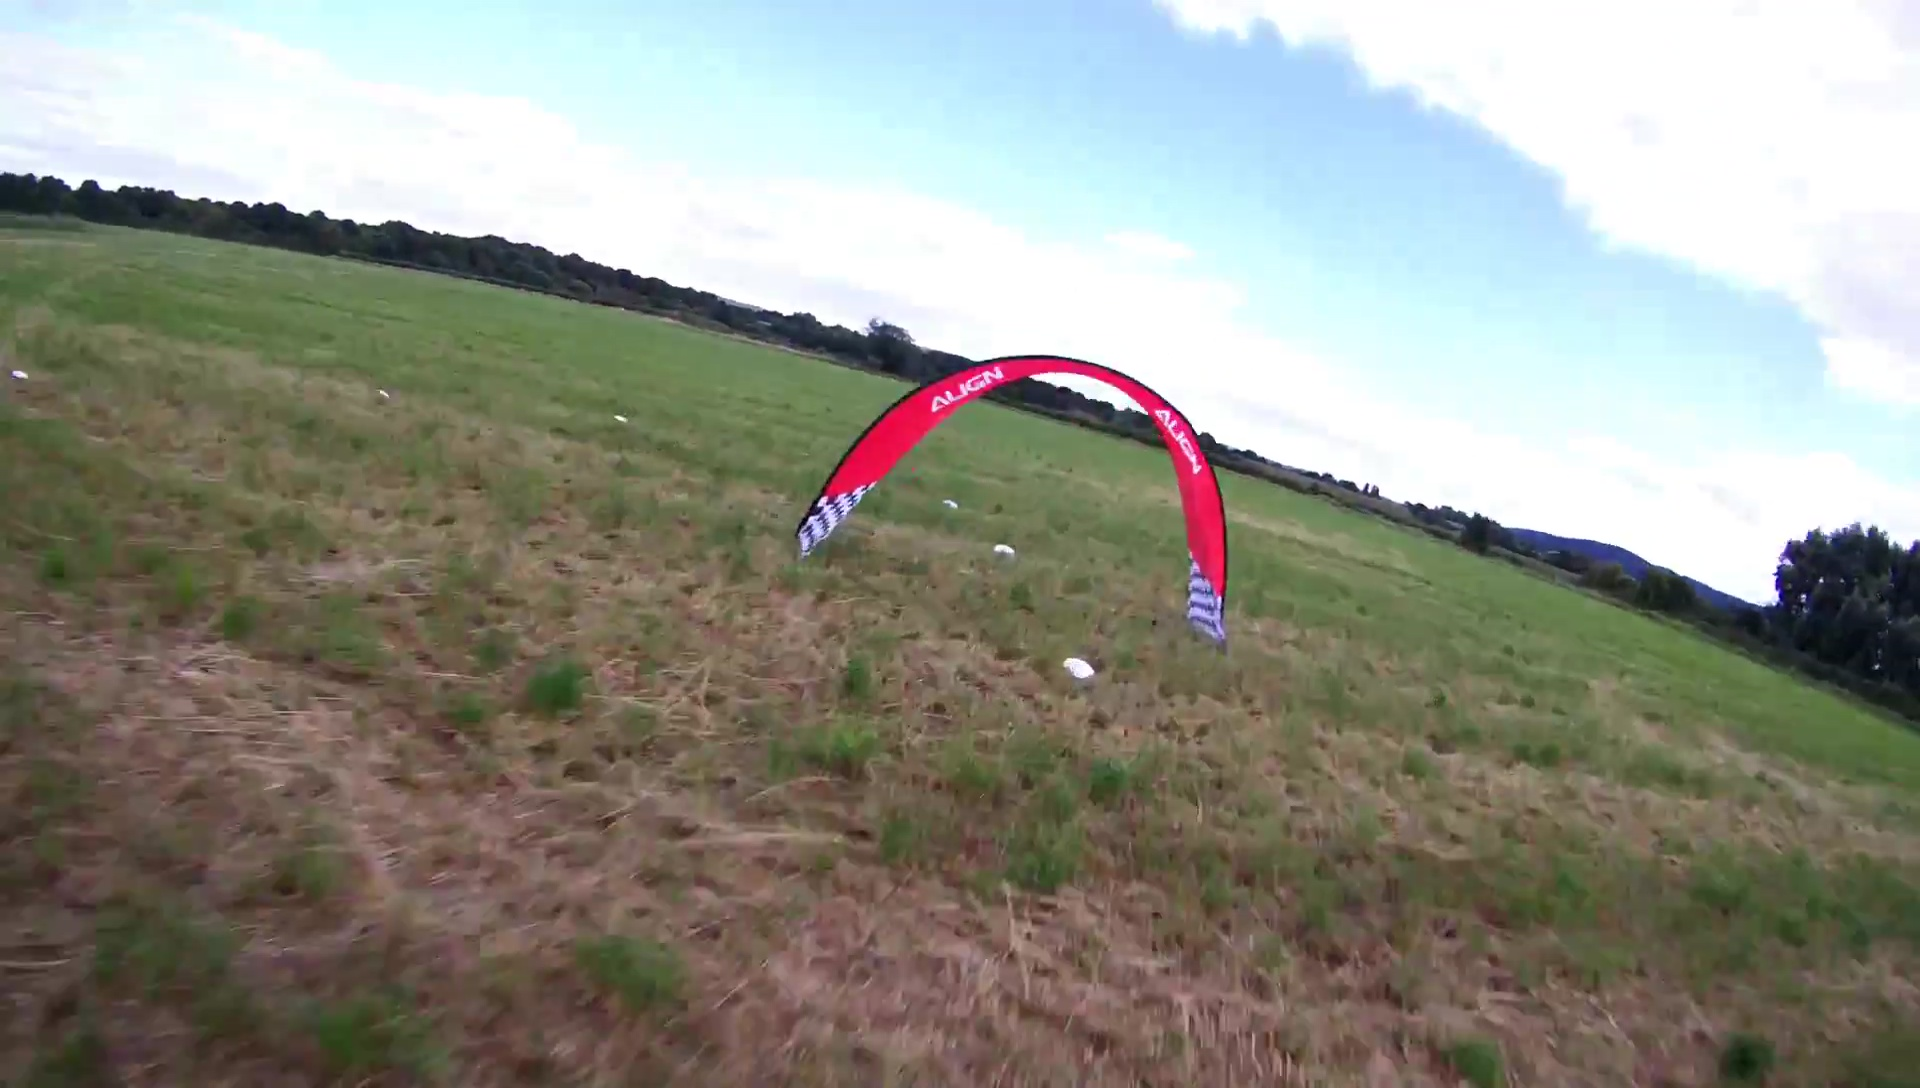gate: (793, 351, 1232, 648)
